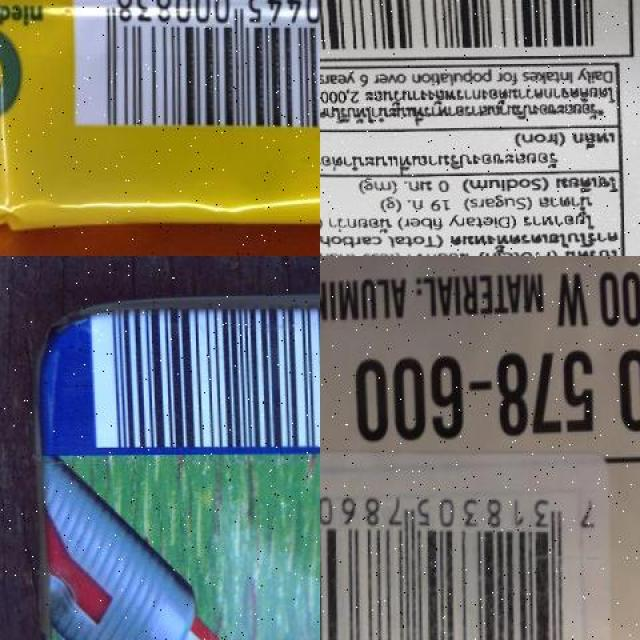Barcode: (320, 480, 600, 640), (81, 296, 320, 456), (69, 0, 319, 129), (320, 0, 625, 55)
